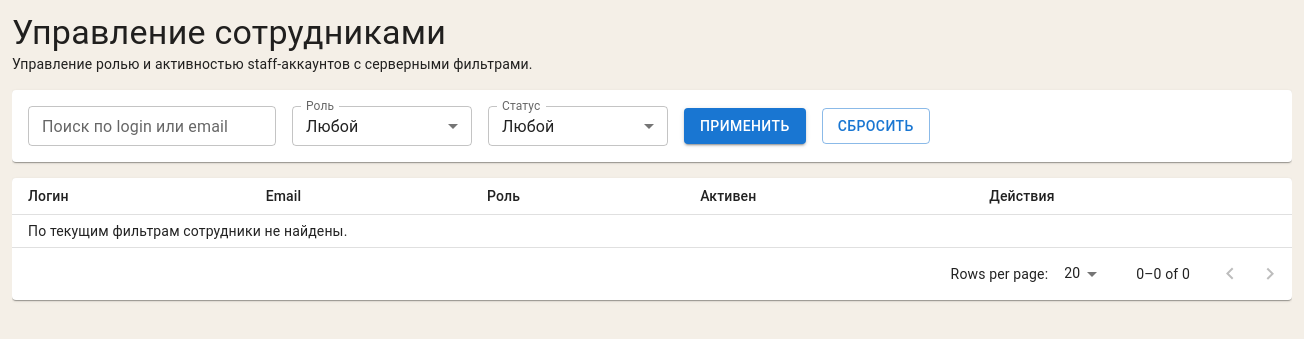
AdminStaffManagementPage › applies search filter and sends query params to list endpoint
Check: the text "По текущим фильтрам сотрудники не найдены." is shown, box [12,214,1292,248]
Type "staff-search-result" into the field labelled "Поиск по login или email".
click(152, 126); type("staff-search-result")  # box [28,106,276,146]
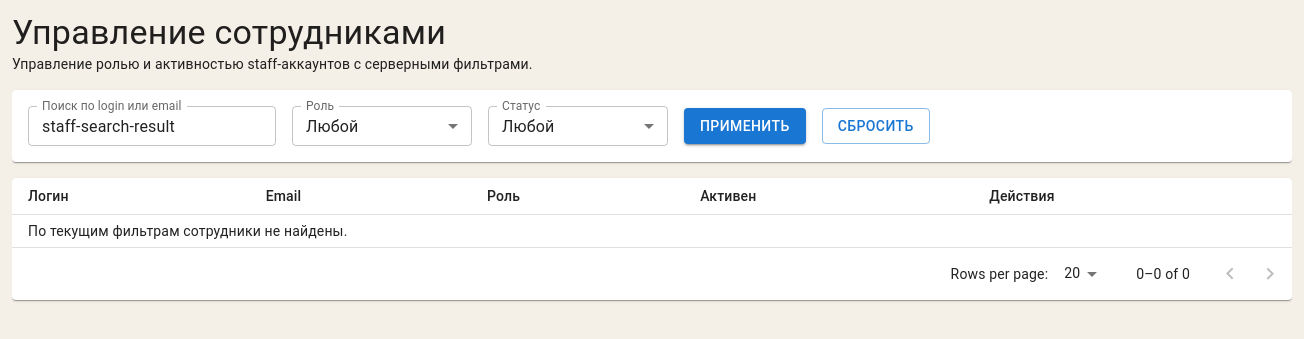
Click the button "Применить".
click(745, 126)  # box [684,108,806,144]
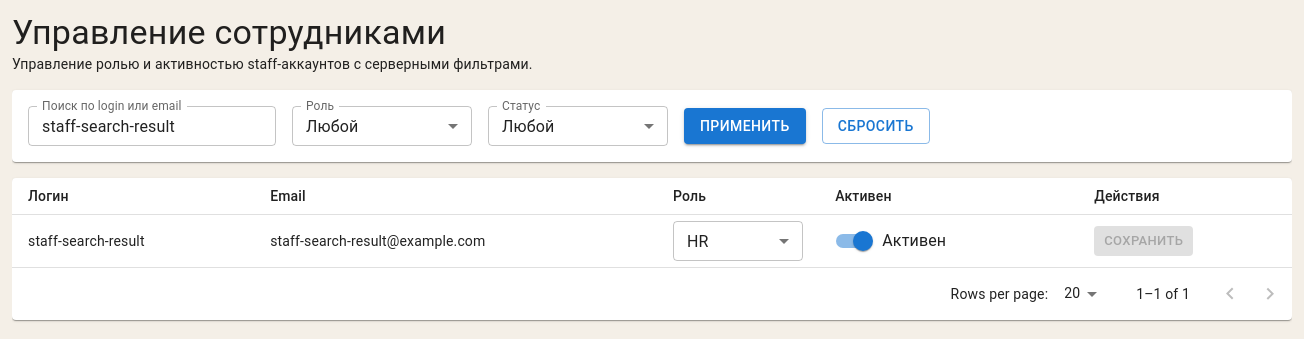
Check: the text "staff-search-result" is shown, box [12,214,254,268]
